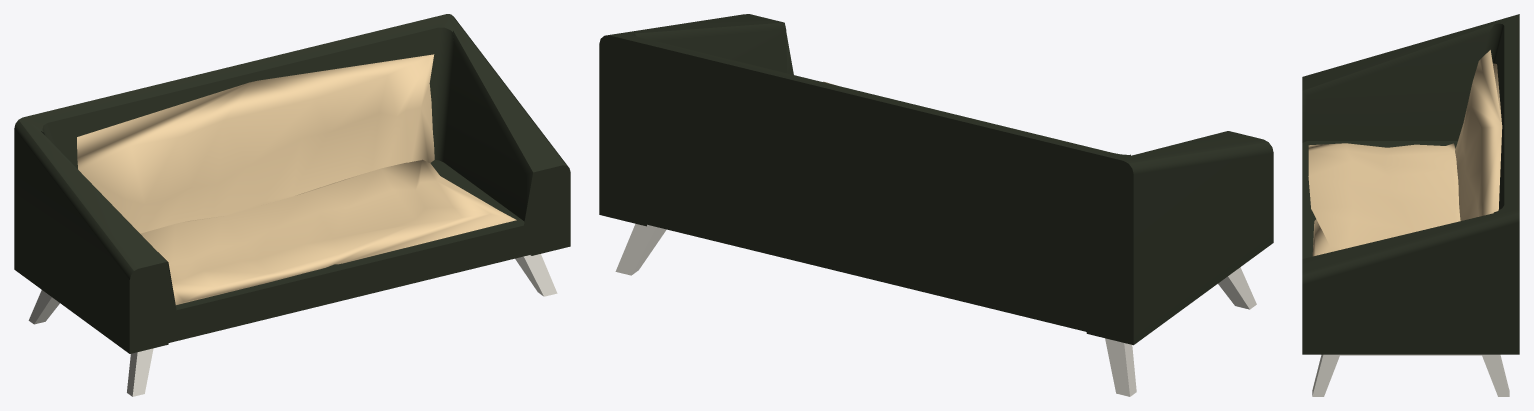
The model's file is FancySofa.fbx.
3 renders of one model, left to right at view 1: azimuth 30°, elevation 25°; view 2: azimuth 150°, elevation 25°; view 3: azimuth 270°, elevation 25°, orthographic. The views are drawn at different scales.
Visible parts, largest first — view 1: polySurface20; view 2: polySurface20; view 3: polySurface20.
Part boxes in pixels (x1,y1,x2,y2): polySurface20: [14, 14, 570, 396]; polySurface20: [599, 14, 1273, 396]; polySurface20: [1302, 14, 1519, 396].
Bounding box in the file's own units: 167 × 72.08 × 75.84.
